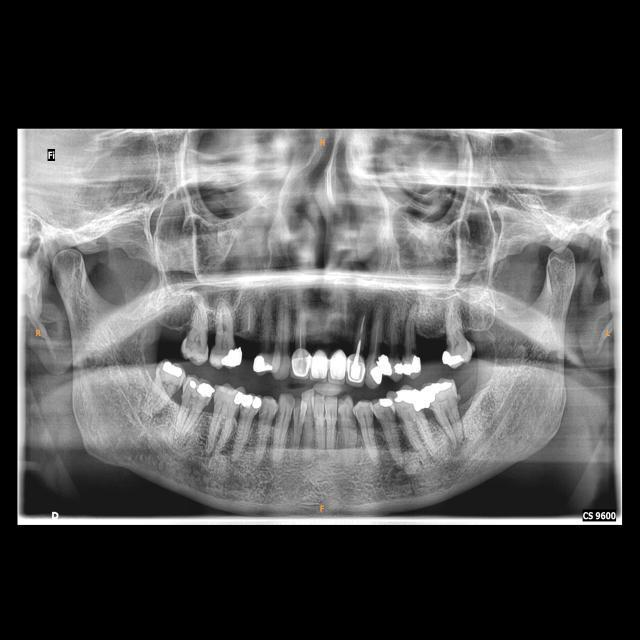dentin-curugu: (258, 336, 278, 358)
dolgu: (392, 385, 423, 415), (212, 340, 242, 370), (180, 378, 212, 402), (155, 355, 183, 381), (424, 381, 454, 404), (218, 384, 245, 409), (240, 390, 263, 416), (444, 348, 472, 368), (247, 355, 276, 374), (384, 351, 402, 380), (371, 395, 395, 415), (367, 358, 381, 386), (405, 350, 420, 376)
kanal-tedavisi: (352, 312, 368, 360), (294, 315, 306, 347), (239, 308, 255, 332)
kaplama: (290, 348, 312, 376), (346, 351, 364, 383)
kopru: (303, 345, 355, 382)
